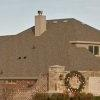Chimney: (30, 8, 46, 36)
